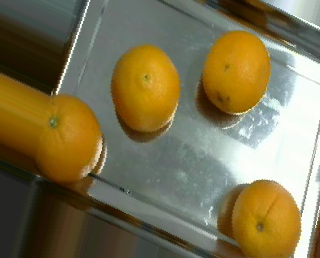Orange: (111, 42, 180, 132), (202, 30, 272, 115), (231, 178, 303, 258)
